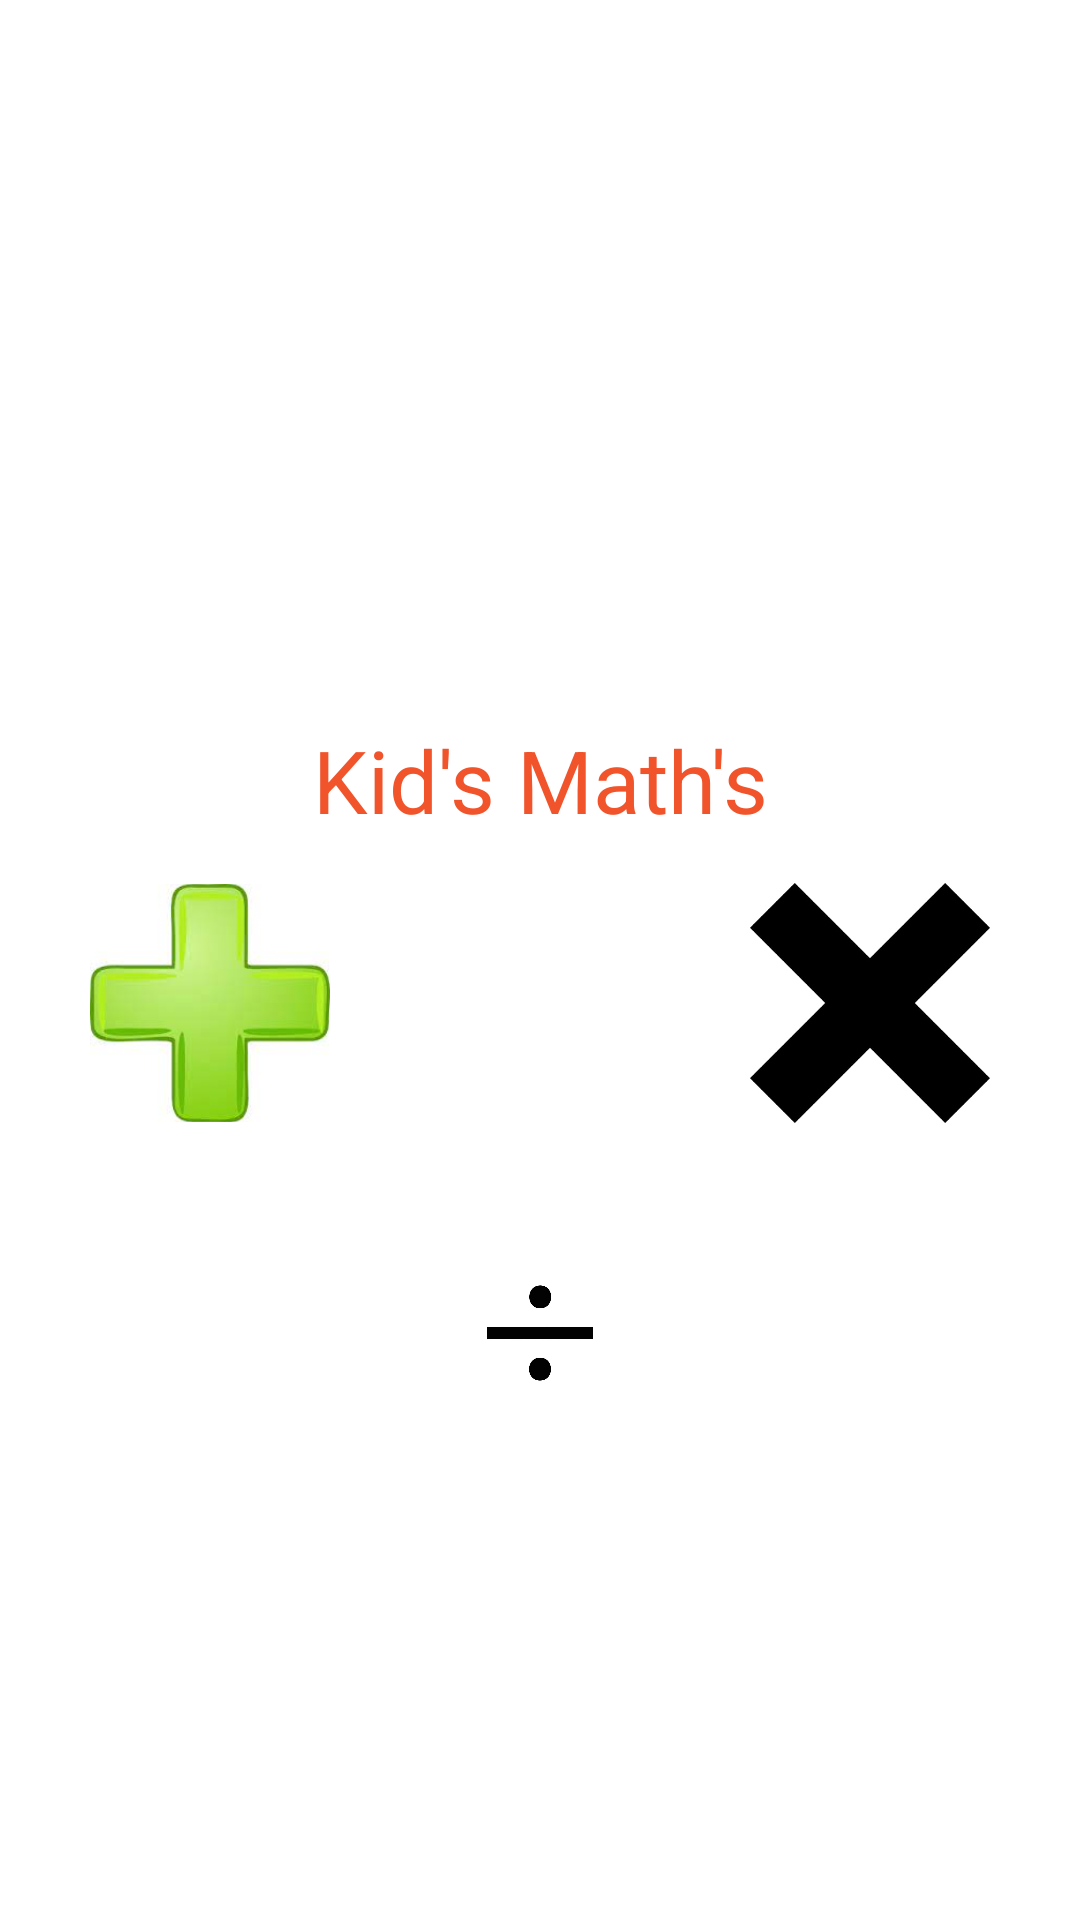

Icons on this 1080 × 1920 Android screen, each with its box as [x1=x1, y1=y1, x2=x2, y2=y2]:
addition: [x1=90, y1=884, x2=330, y2=1122]
divison: [x1=487, y1=1285, x2=593, y2=1381]
times: [x1=750, y1=883, x2=990, y2=1123]
